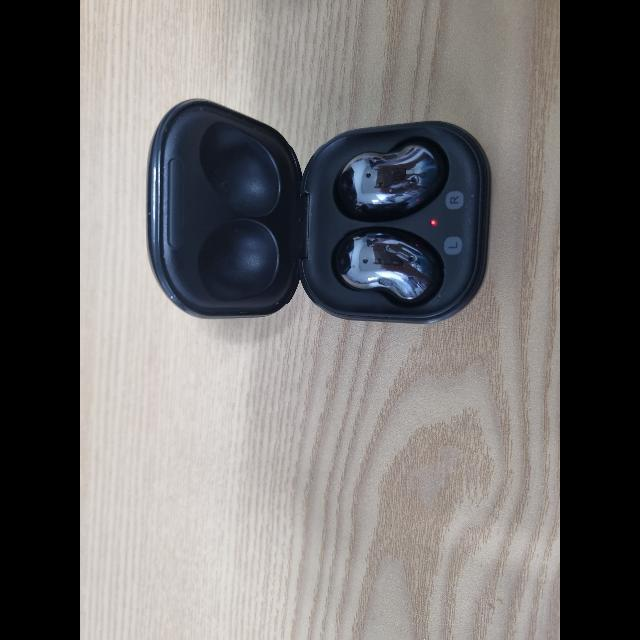buds_live: (143, 98, 494, 326)
